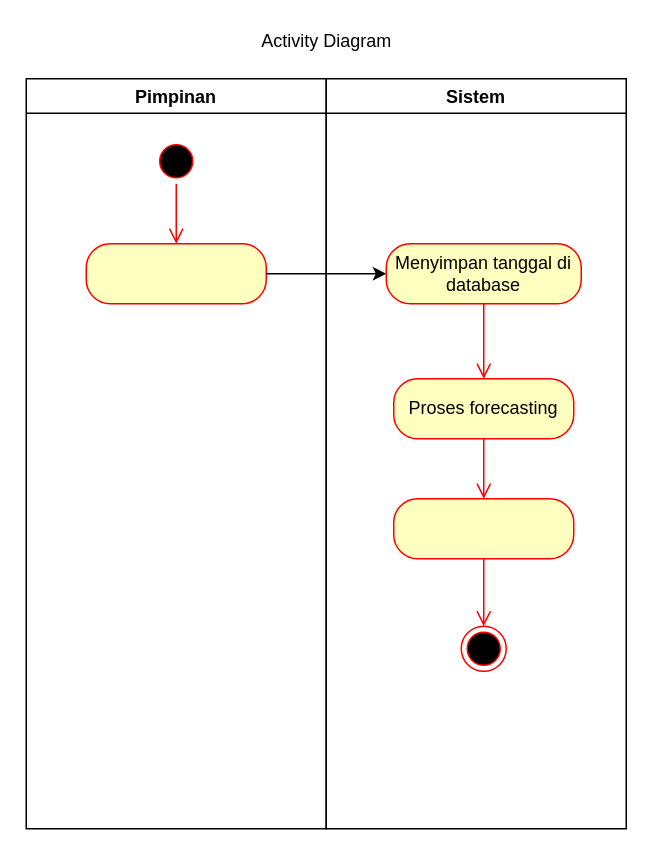
Some shapes in this 653 by 855 pixel diagram are drawn without their labels. The shapes that lost their labels are listed below. From the top down, each one's box as (x1, y1, x2, y2) in pixels, then its label:
(85, 242, 266, 304): Input tanggal awal dan akhir
(392, 497, 574, 559): Menampilkan hasil forecasting
